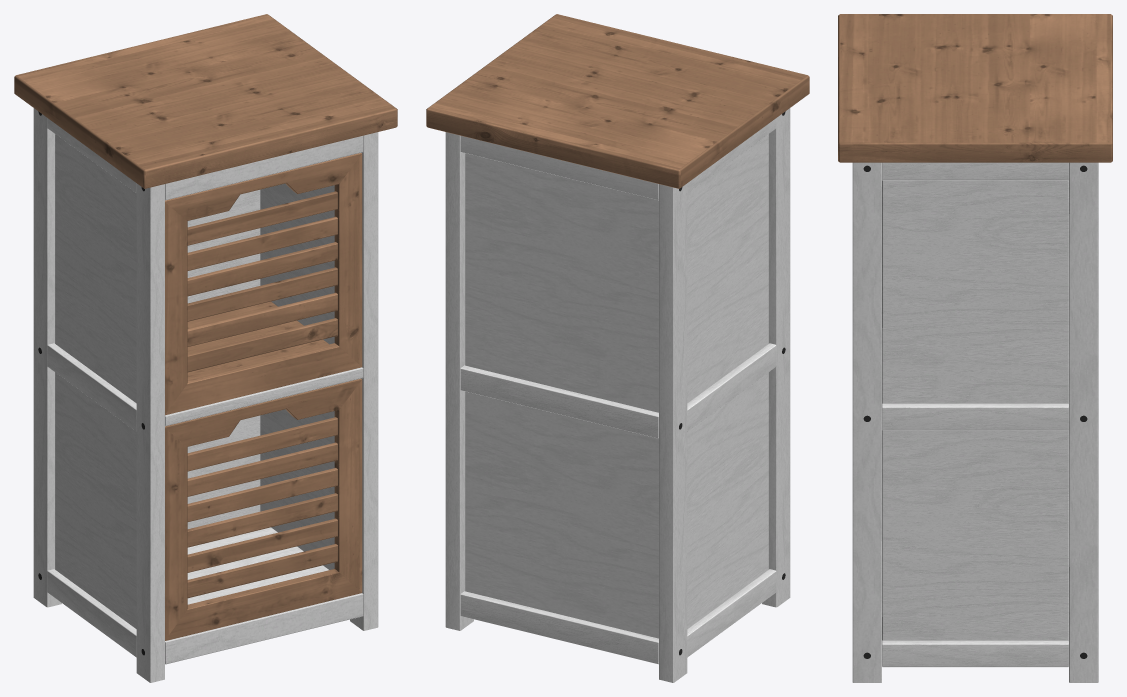
File: storagebed2.glb
3 views of the same model, side by side, from view 1: azimuth 30°, elevation 25°; view 2: azimuth 150°, elevation 25°; view 3: azimuth 270°, elevation 25° (orthographic). The views are drawn at different scales.
Visible parts, largest first — view 1: SM_Storage38; view 2: SM_Storage38; view 3: SM_Storage38.
Part boxes in pixels (bbox=[...]): SM_Storage38: bbox=[14, 14, 397, 682]; SM_Storage38: bbox=[426, 14, 809, 682]; SM_Storage38: bbox=[838, 14, 1112, 682].
Size of the model in its own units: 0.3613 by 0.7058 by 0.3216.
Materials: 3 (3 with a texture image).
